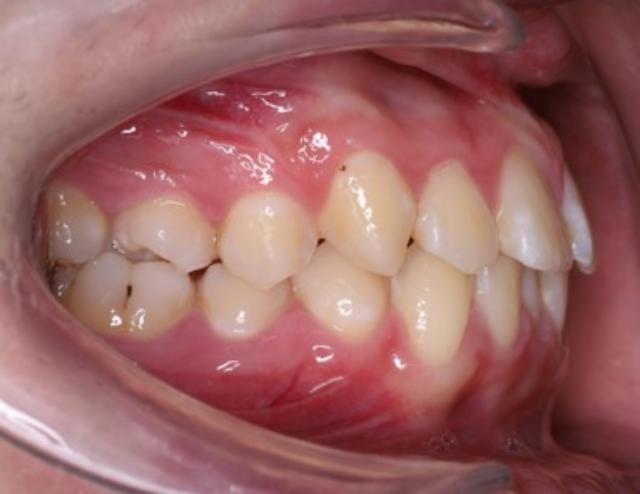canine class I: (292, 154, 478, 370)
